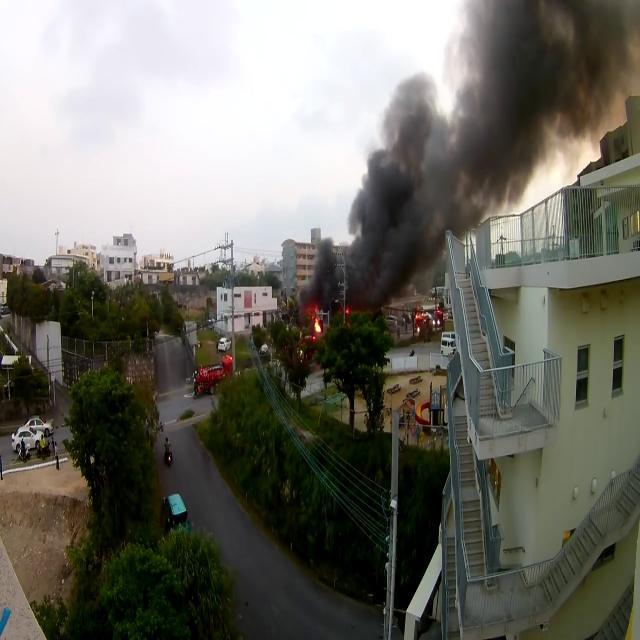Smoke: (448, 0, 640, 227), (339, 82, 444, 298)
